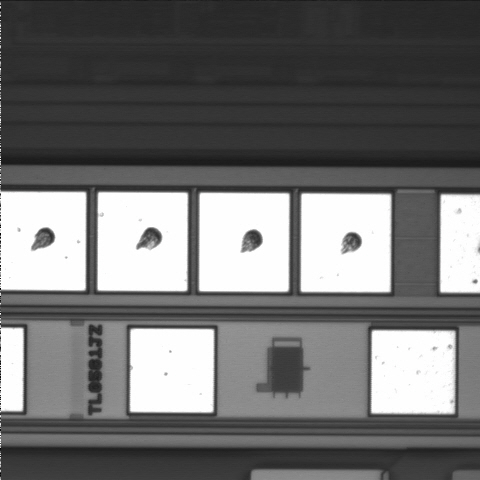pad: (98, 192, 188, 291), (199, 193, 289, 292), (301, 194, 391, 292), (130, 329, 214, 412), (371, 331, 455, 413)
